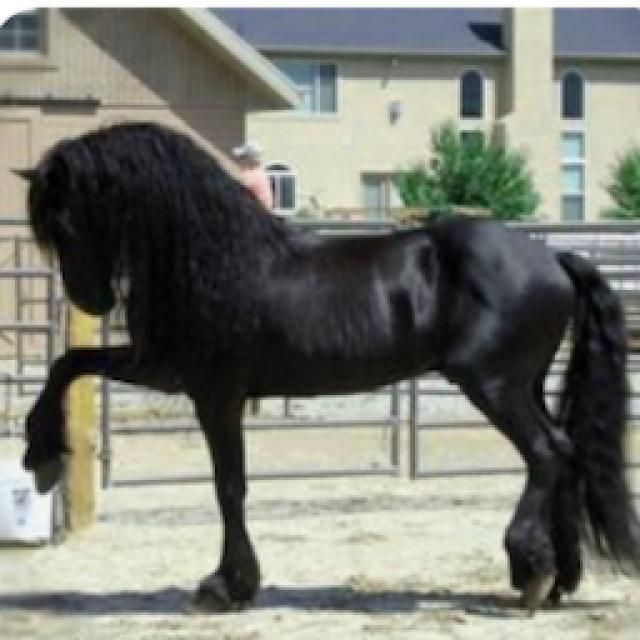Horse: (8, 114, 640, 617)
